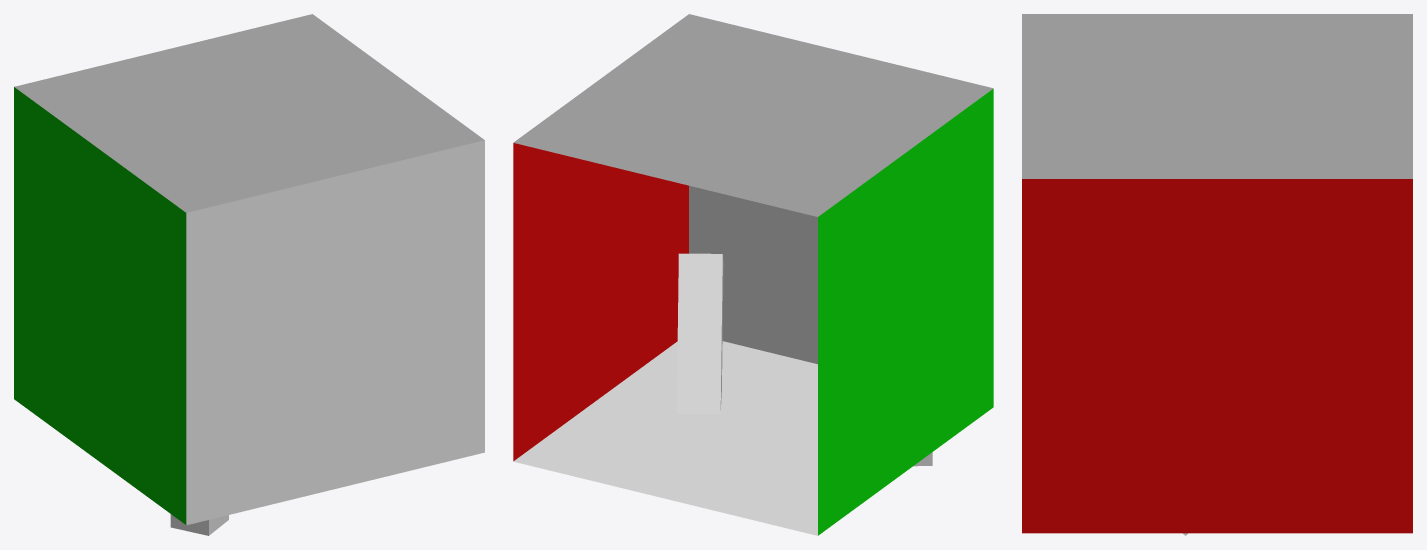
The picture shows the model from 3 angles, left to right: view 1: azimuth 30°, elevation 25°; view 2: azimuth 150°, elevation 25°; view 3: azimuth 270°, elevation 25°; orthographic projection. The views are drawn at different scales.
Parts seen in each view (by area): view 1: pPlane1, pCube1; view 2: pPlane1, pCube2; view 3: pPlane1.
Part boxes in pixels (left/top/right/bottom): pPlane1: left=14, top=14, right=484, bottom=525; pCube1: left=170, top=514, right=228, bottom=535; pPlane1: left=513, top=14, right=993, bottom=535; pCube2: left=676, top=253, right=723, bottom=414; pPlane1: left=1022, top=14, right=1412, bottom=533.
Bounding box in the file's own units: 4 × 4.45 × 4.
